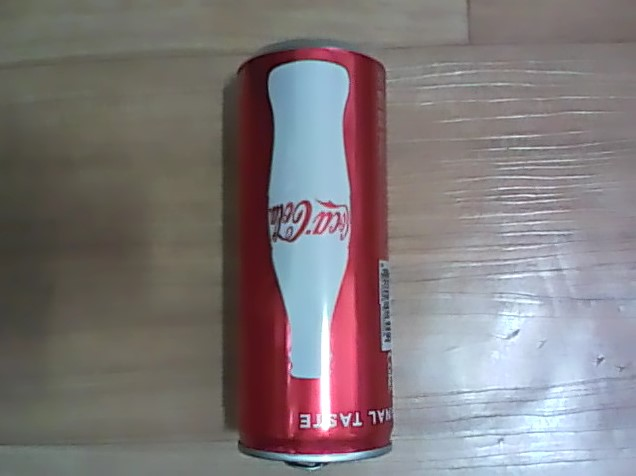Can: (215, 29, 398, 473)
